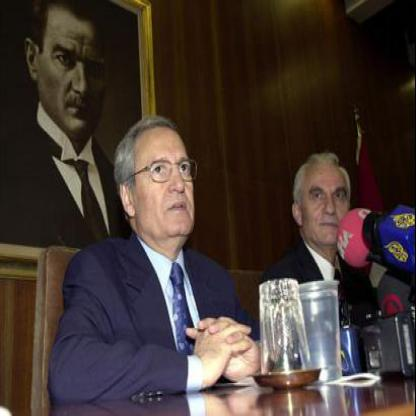face: (39, 1, 116, 142), (129, 118, 202, 248), (300, 158, 353, 248)
